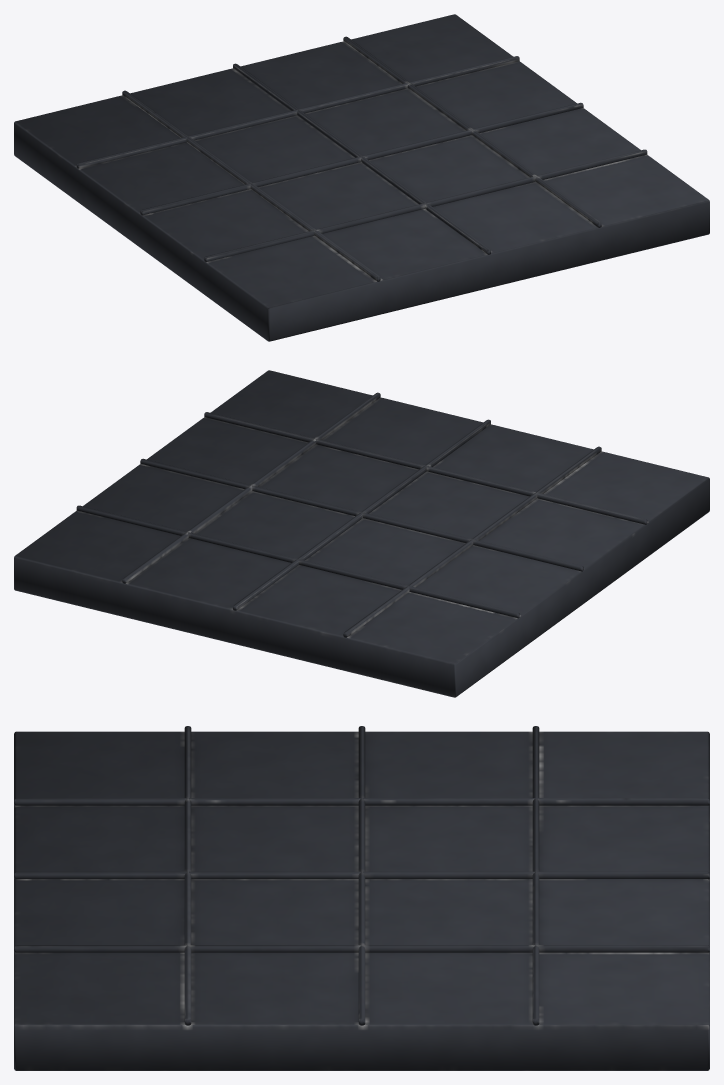
Rendered from Calle_Vereda.fbx.
3 views of the same model, one above another, from view 1: azimuth 30°, elevation 25°; view 2: azimuth 150°, elevation 25°; view 3: azimuth 270°, elevation 25° (orthographic). The views are drawn at different scales.
Parts seen in each view (by area): view 1: Calle_Vereda; view 2: Calle_Vereda; view 3: Calle_Vereda.
Boxes of the visible parts, bbox=[...] form: Calle_Vereda: bbox=[14, 14, 709, 341]; Calle_Vereda: bbox=[14, 370, 709, 697]; Calle_Vereda: bbox=[14, 726, 709, 1070].
Bounding box in the file's own units: 8 × 0.67 × 8.
